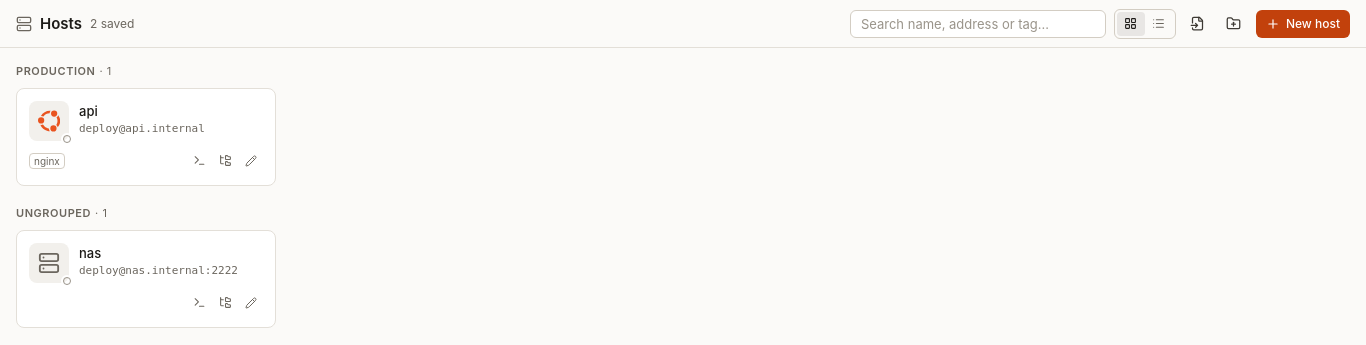
HostsView › searches by name, address or tag
The width and height of the screenshot is (1366, 345).
In the search field named "Search hosts": (978, 24) [850,10,1106,38], type "nginx"
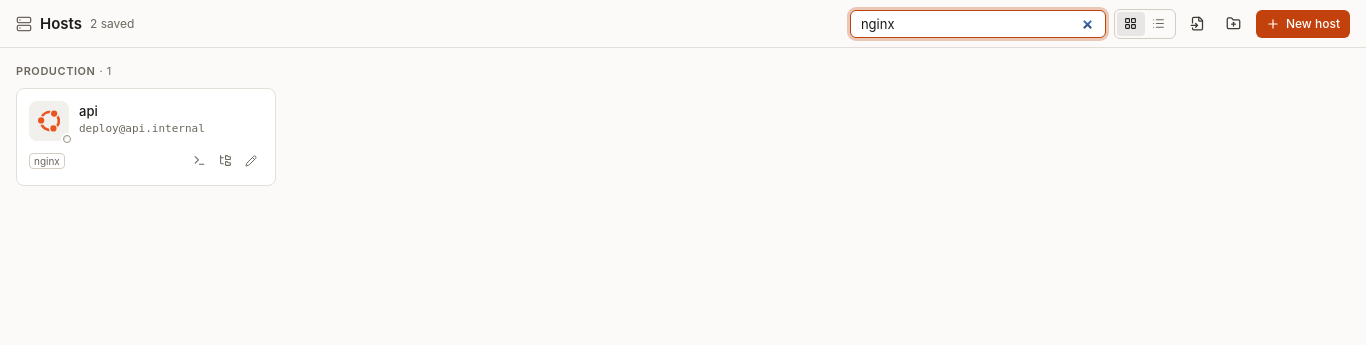
Expected: the text "nas" is gone
Replace the text in the search field named "Search hosts" with "zzz": (978, 24) [850,10,1106,38]
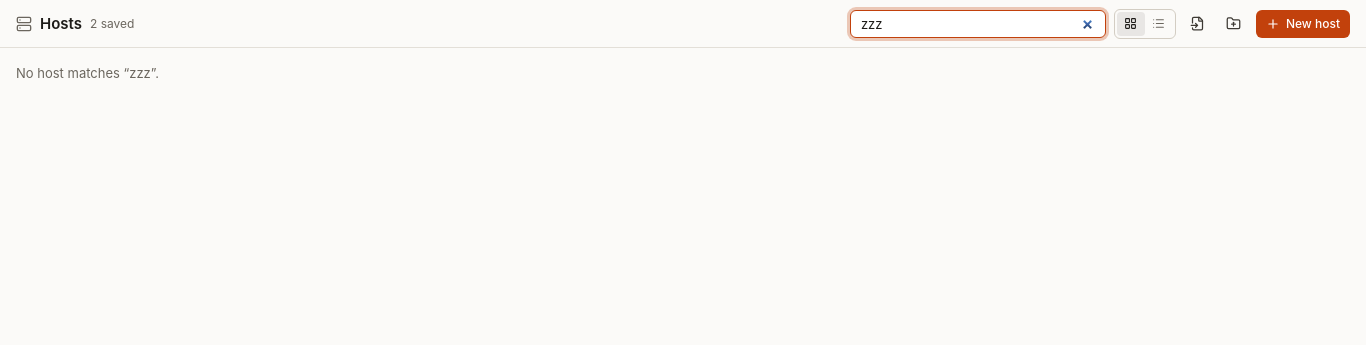
Expected: the text "No host matches “zzz”." is shown, [16,65,159,81]
